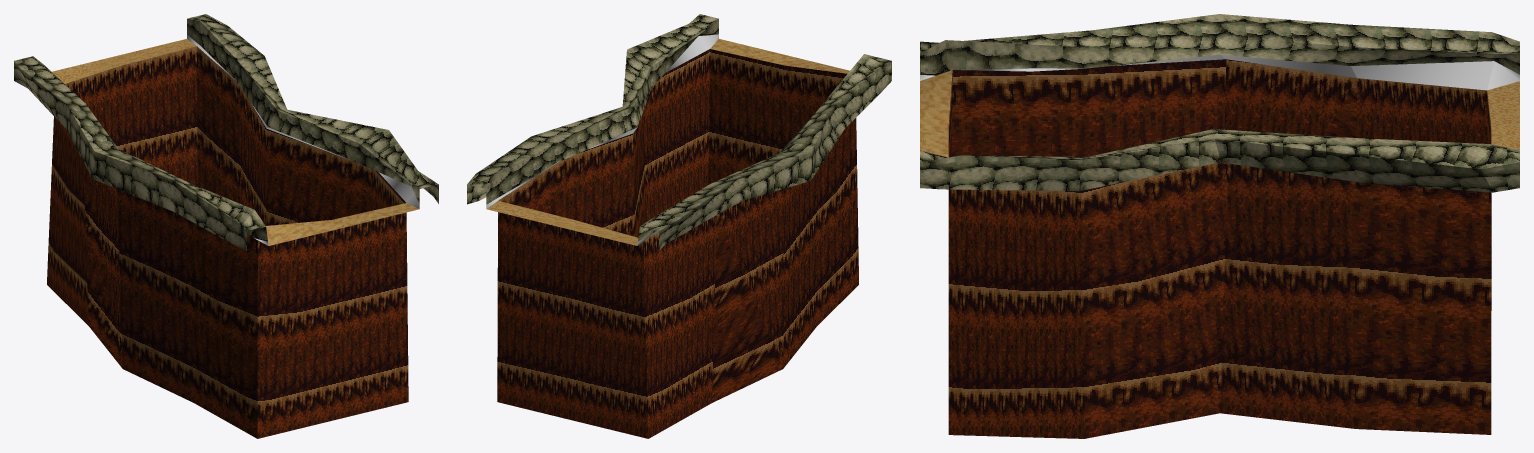
3 views of the same model, side by side, from view 1: azimuth 30°, elevation 25°; view 2: azimuth 150°, elevation 25°; view 3: azimuth 270°, elevation 25° (orthographic). The views are drawn at different scales.
Parts seen in each view (by area): view 1: tv_t2b0e0v2; view 2: tv_t2b0e0v2; view 3: tv_t2b0e0v2.
Boxes of the visible parts, bbox=[...] form: tv_t2b0e0v2: bbox=[14, 14, 438, 438]; tv_t2b0e0v2: bbox=[467, 14, 891, 438]; tv_t2b0e0v2: bbox=[920, 14, 1519, 438].
Size of what is drawn, in the model's own units: 12.5 by 21 by 11.49.
